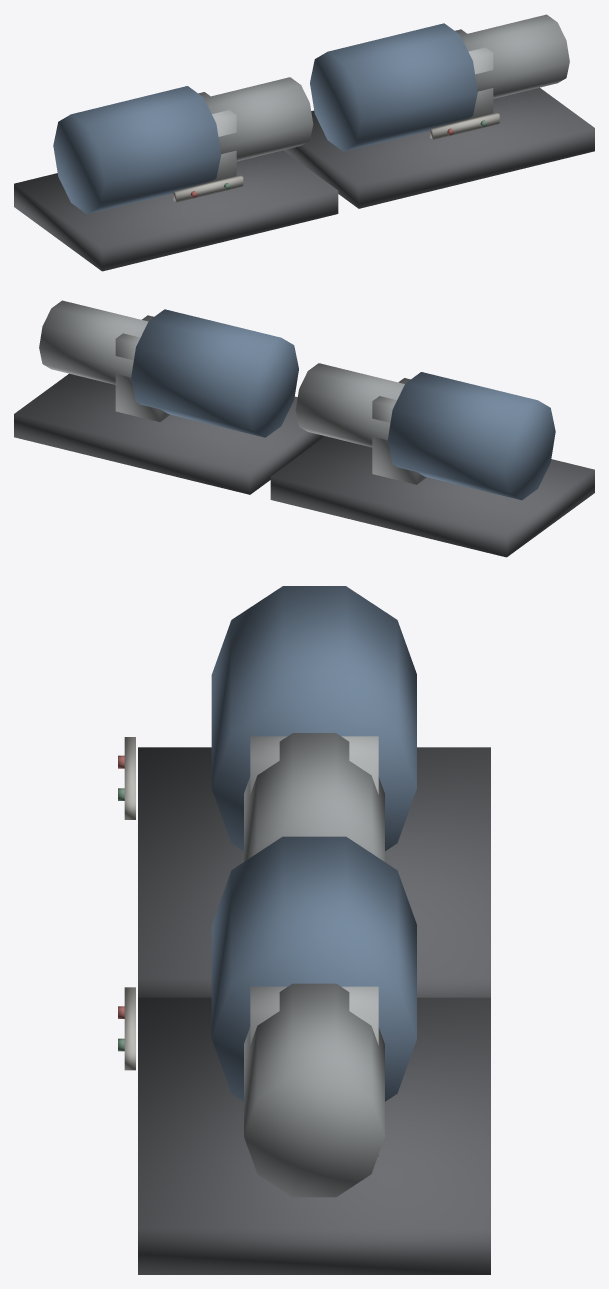
The model's file is circulation_pump__cluster.glb.
The picture shows the model from 3 angles, top to bottom: view 1: azimuth 30°, elevation 25°; view 2: azimuth 150°, elevation 25°; view 3: azimuth 270°, elevation 25°; orthographic projection. The views are drawn at different scales.
Parts seen in each view (by area): view 1: world; view 2: world; view 3: world.
Part boxes in pixels (bbox=[...]): world: bbox=[14, 14, 594, 271]; world: bbox=[14, 300, 594, 557]; world: bbox=[118, 586, 490, 1274].
Size of the model in its own units: 1.78 by 0.3922 by 0.581.
